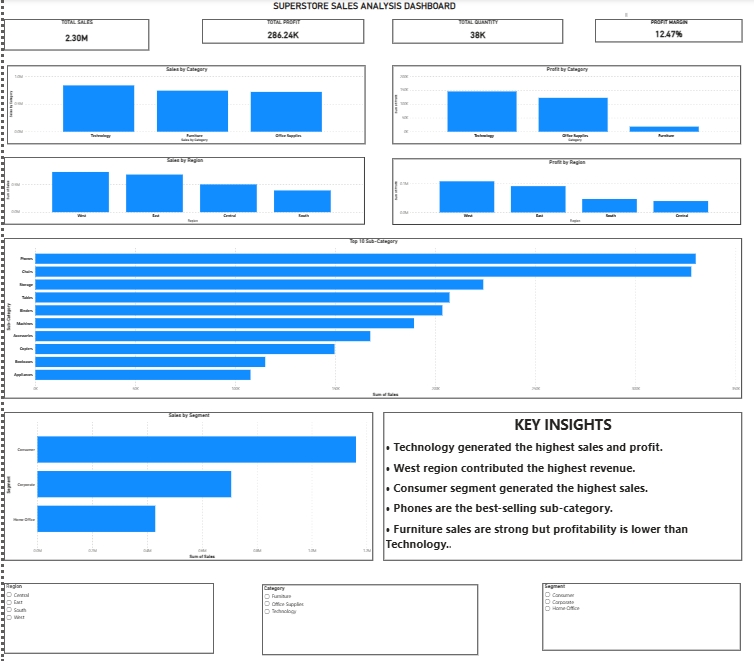

Layout of this report page (visuals, bound fields, positions):
{"tool":"powerbi","page":{"name":"Page 2","canvas":[2500,2200],"ordinal":0},"visuals":[{"type":"card","title":"TOTAL SALES","fields":{"Values":["Sum(Superstore_Analysis.Sales)"]},"box":[0,71.7,478.3,103.3],"z":0},{"type":"card","title":"TOTAL PROFIT","fields":{"Values":["Sum(Superstore_Analysis.Profit)"]},"box":[651.7,68.8,534.3,81],"z":1000},{"type":"card","title":"TOTAL QUANTITY","fields":{"Values":["Sum(Superstore_Analysis.Quantity)"]},"box":[1283.2,68.8,562.7,81],"z":2000},{"type":"clusteredColumnChart","title":"Sales by Category","fields":{"Category":["Superstore_Analysis.Category"],"Y":["Sum(Superstore_Analysis.Sales)"]},"box":[8.1,222.6,1182,259.1],"z":3000},{"type":"clusteredColumnChart","title":" Profit by Category","fields":{"Category":["Superstore_Analysis.Category"],"Y":["Sum(Superstore_Analysis.Profit)"]},"box":[1283.2,222.6,1149.7,259.1],"z":4000},{"type":"clusteredColumnChart","title":"Sales by Region","fields":{"Category":["Superstore_Analysis.Region"],"Y":["Sum(Superstore_Analysis.Sales)"]},"box":[0,526.2,1190.1,222.6],"z":5000},{"type":"clusteredColumnChart","title":"Profit by Region","fields":{"Category":["Superstore_Analysis.Region"],"Y":["Sum(Superstore_Analysis.Profit)"]},"box":[1283.2,530.3,1149.7,218.6],"z":6000},{"type":"barChart","title":" Top 10 Sub-Category","fields":{"Category":["Superstore_Analysis.Sub-Category"],"Y":["Sum(Superstore_Analysis.Sales)"]},"box":[0,791.6,2434.2,529.4],"z":7000},{"type":"listSlicer","fields":{"Values":["Superstore_Analysis.Region"]},"box":[0,1929.6,692.7,232.5],"z":8000},{"type":"listSlicer","fields":{"Values":["Superstore_Analysis.Segment"]},"box":[1776.2,1929.6,653.1,222.6],"z":9000},{"type":"textbox","title":"SUPERSTORE SALES ANALYSIS DASHBOARD","box":[315.7,12.1,1744.7,56.7],"z":10000},{"type":"listSlicer","fields":{"Values":["Superstore_Analysis.Category"]},"box":[851,1934.5,712.5,232.5],"z":11000},{"type":"card","title":"PROFIT MARGIN","fields":{"Values":["Superstore_Analysis.Profit Margin"]},"box":[1947.1,68.8,485.8,76.9],"z":12000},{"type":"clusteredBarChart","title":"Sales by Segment","fields":{"Category":["Superstore_Analysis.Segment"],"Y":["Sum(Superstore_Analysis.Sales)"]},"box":[0,1365.5,1217.1,489.8],"z":12001},{"type":"textbox","box":[1251.8,1365.5,1182.5,489.8],"z":12002}]}

Visuals, with their boxes in screenshot pixels (x1, y1, x2, y2), scaled from the page's 2500x2200 canvas onto the 754x661 screenshot:
"TOTAL SALES" card: [0, 22, 144, 53]
"TOTAL PROFIT" card: [197, 21, 358, 45]
"TOTAL QUANTITY" card: [387, 21, 557, 45]
"Sales by Category" clusteredColumnChart: [2, 67, 359, 145]
" Profit by Category" clusteredColumnChart: [387, 67, 734, 145]
"Sales by Region" clusteredColumnChart: [0, 158, 359, 225]
"Profit by Region" clusteredColumnChart: [387, 159, 734, 225]
" Top 10 Sub-Category" barChart: [0, 238, 734, 397]
listSlicer - Superstore_Analysis.Region: [0, 580, 209, 650]
listSlicer - Superstore_Analysis.Segment: [536, 580, 733, 647]
"SUPERSTORE SALES ANALYSIS DASHBOARD" textbox: [95, 4, 621, 21]
listSlicer - Superstore_Analysis.Category: [257, 581, 472, 651]
"PROFIT MARGIN" card: [587, 21, 734, 44]
"Sales by Segment" clusteredBarChart: [0, 410, 367, 557]
textbox: [378, 410, 734, 557]
